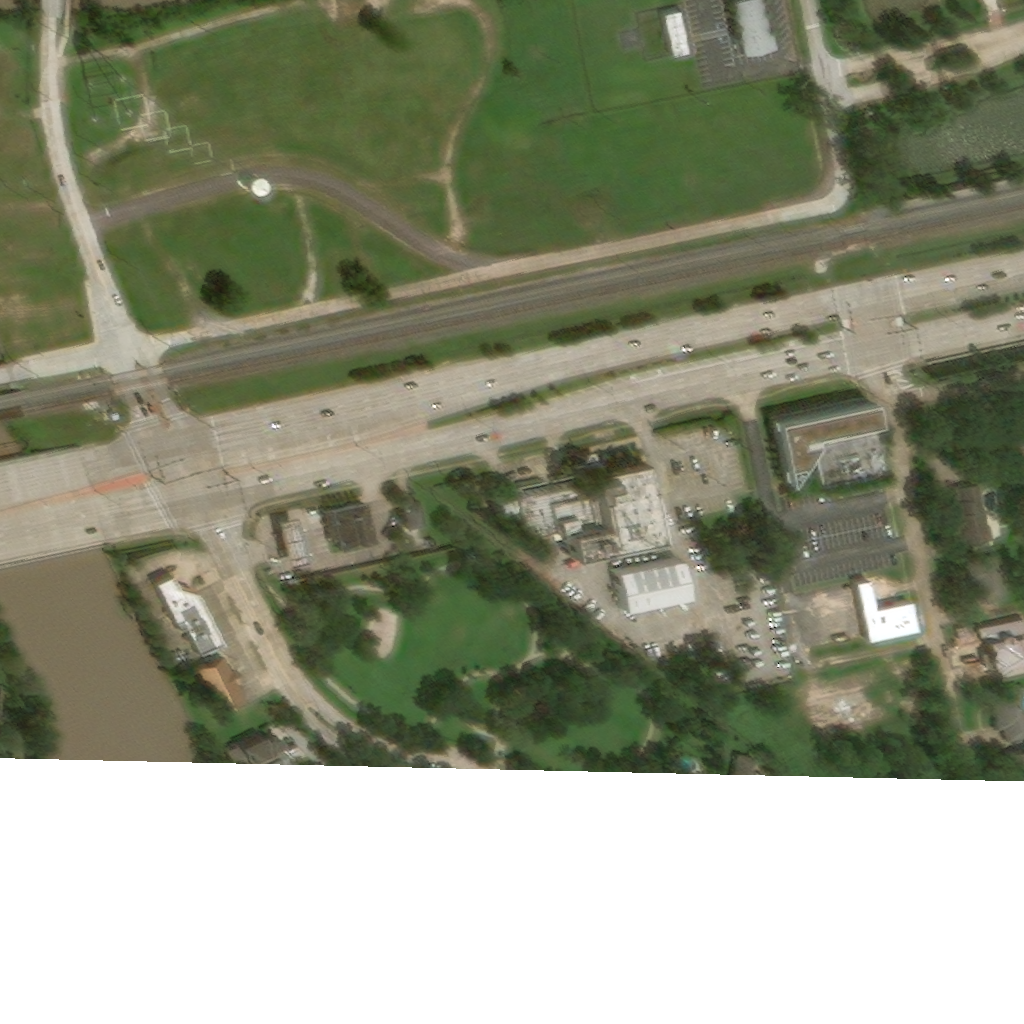minor_damage: (771, 393, 897, 498), (155, 572, 225, 658), (200, 657, 250, 716), (955, 487, 997, 552), (969, 560, 1011, 609), (995, 688, 1022, 749), (230, 731, 286, 758), (665, 10, 693, 60)
no_damage: (493, 450, 660, 561), (616, 556, 693, 616), (857, 580, 922, 648), (325, 500, 376, 551), (276, 514, 307, 566), (400, 493, 424, 529), (737, 755, 759, 769)
unclassified: (735, 0, 780, 61), (1010, 415, 1022, 460), (104, 23, 121, 48)
